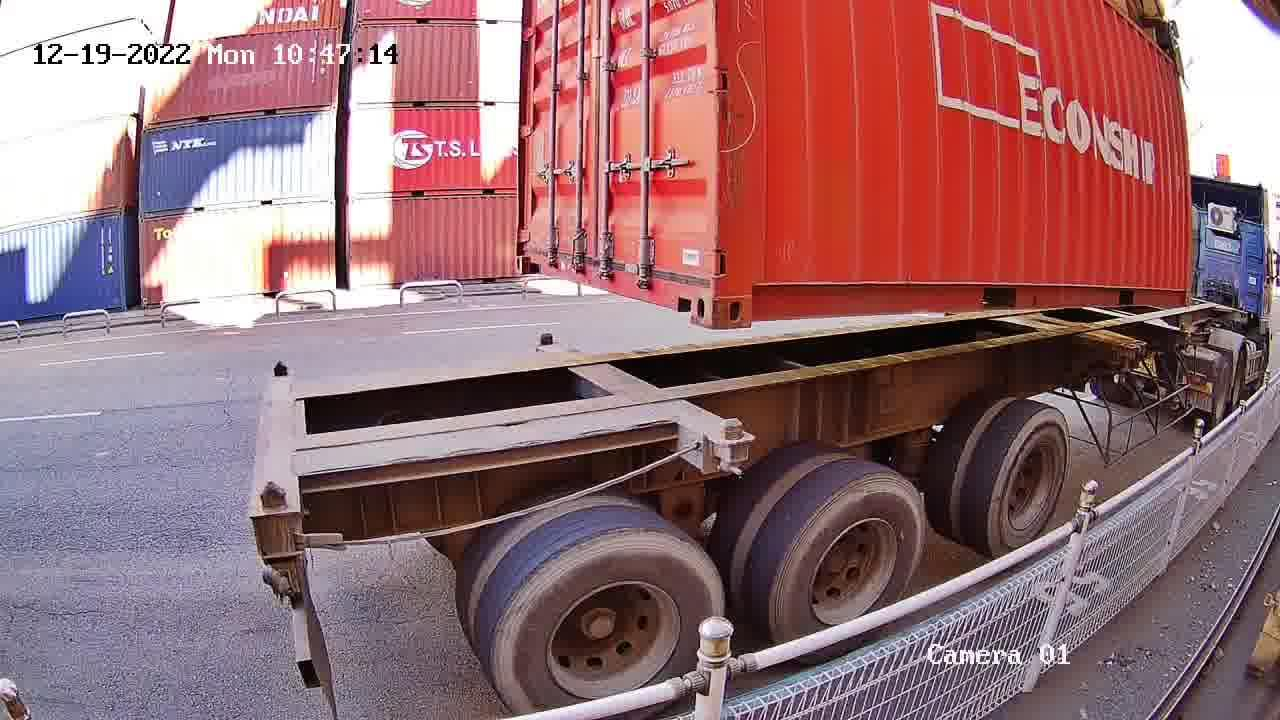Chassis: (536, 338, 758, 475)
Cone: (712, 414, 751, 479), (536, 330, 558, 349)
Hole_L: (714, 263, 779, 329), (514, 238, 544, 274)
Hole_R: (665, 247, 714, 329)
Tire: (499, 535, 719, 708), (776, 478, 925, 635), (990, 413, 1072, 554)
